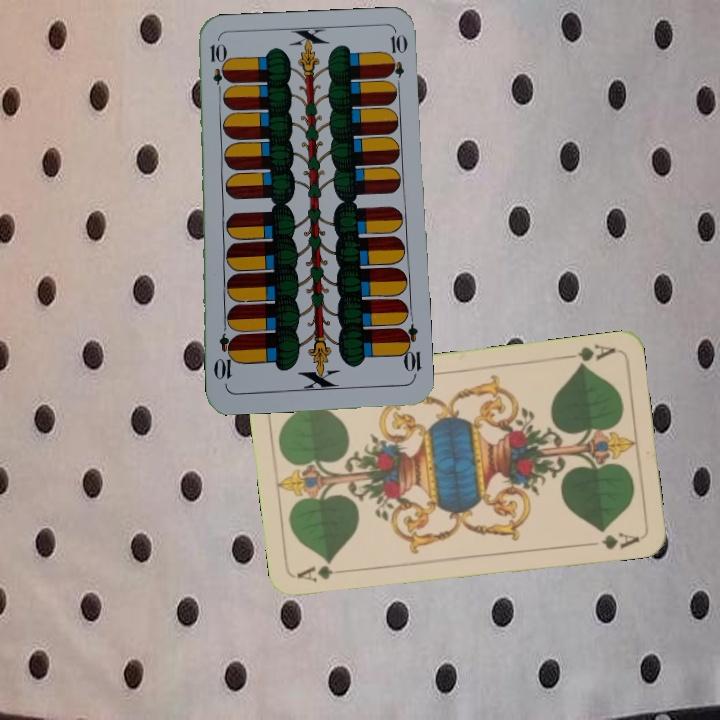E10: (396, 321, 424, 380), (206, 39, 226, 99)
GA: (559, 340, 618, 370), (293, 561, 352, 585)
